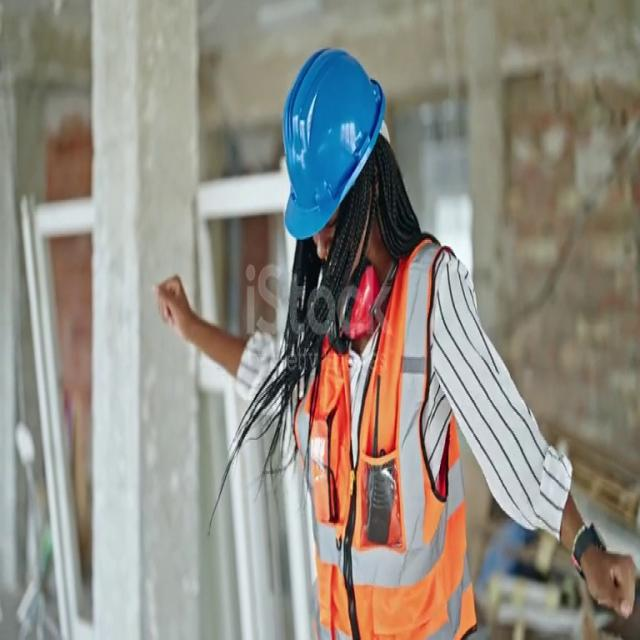capacete: (254, 38, 394, 244)
